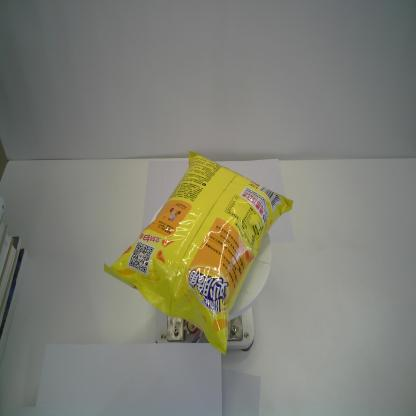Puffed Food: (101, 147, 294, 356)
